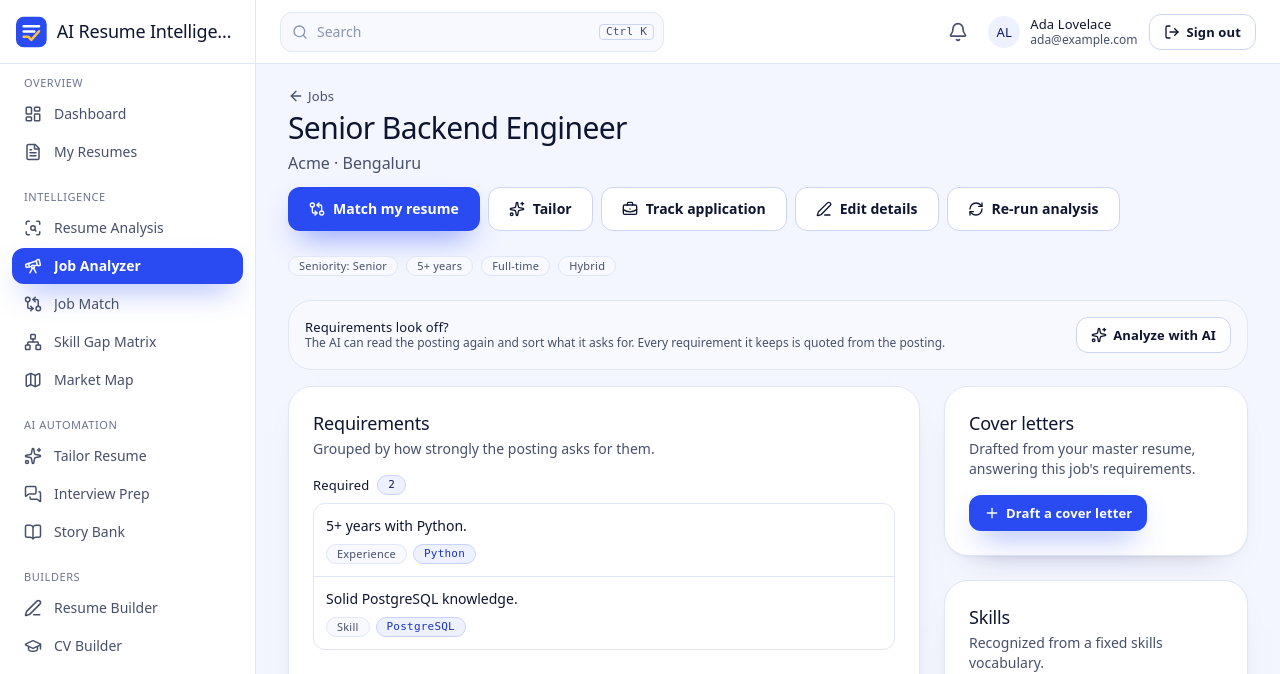
Test case: AI job analysis › re-reads the posting with AI and can go back to the rules
Click the button "Analyze with AI".
click(1154, 335)  # box [1076,317,1231,353]
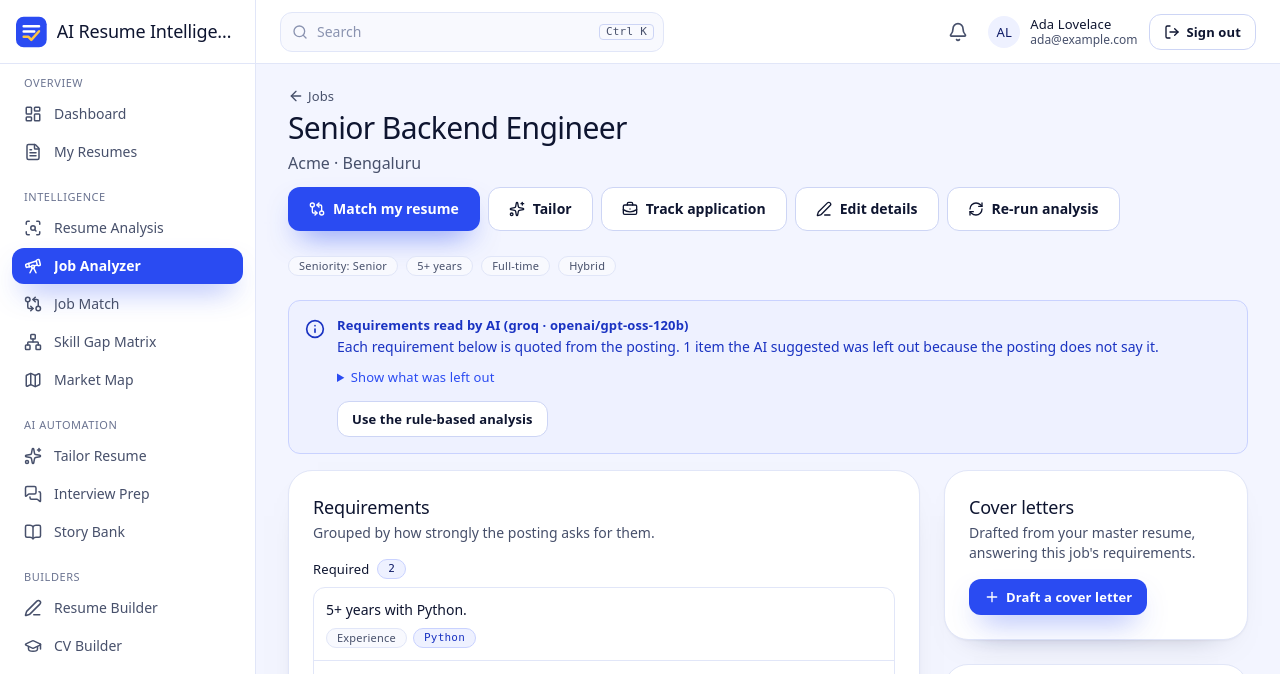
Expected: the text "Requirements read by AI (groq · openai/gpt-oss-120b)" is shown, [337,316,689,334]
Click the button "Use the rule-based analysis".
click(442, 419)  # box [337,401,548,437]
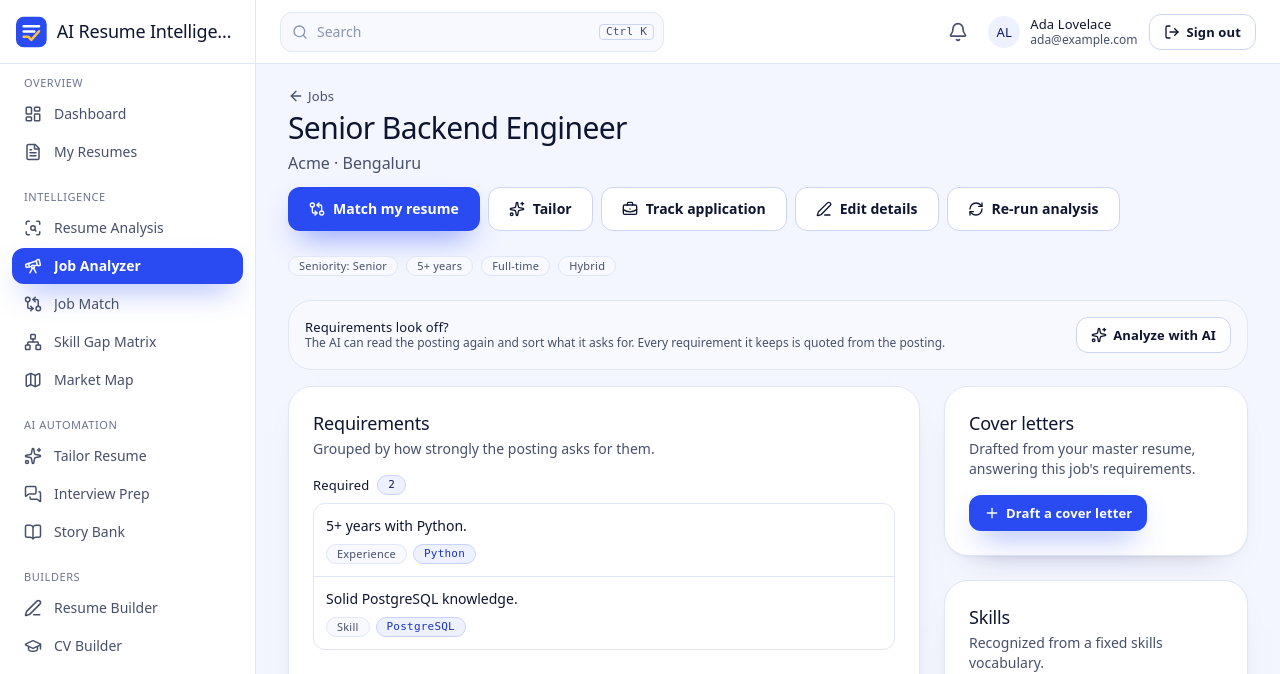
Expected: the button "Analyze with AI" is shown, [1076,317,1231,353]
